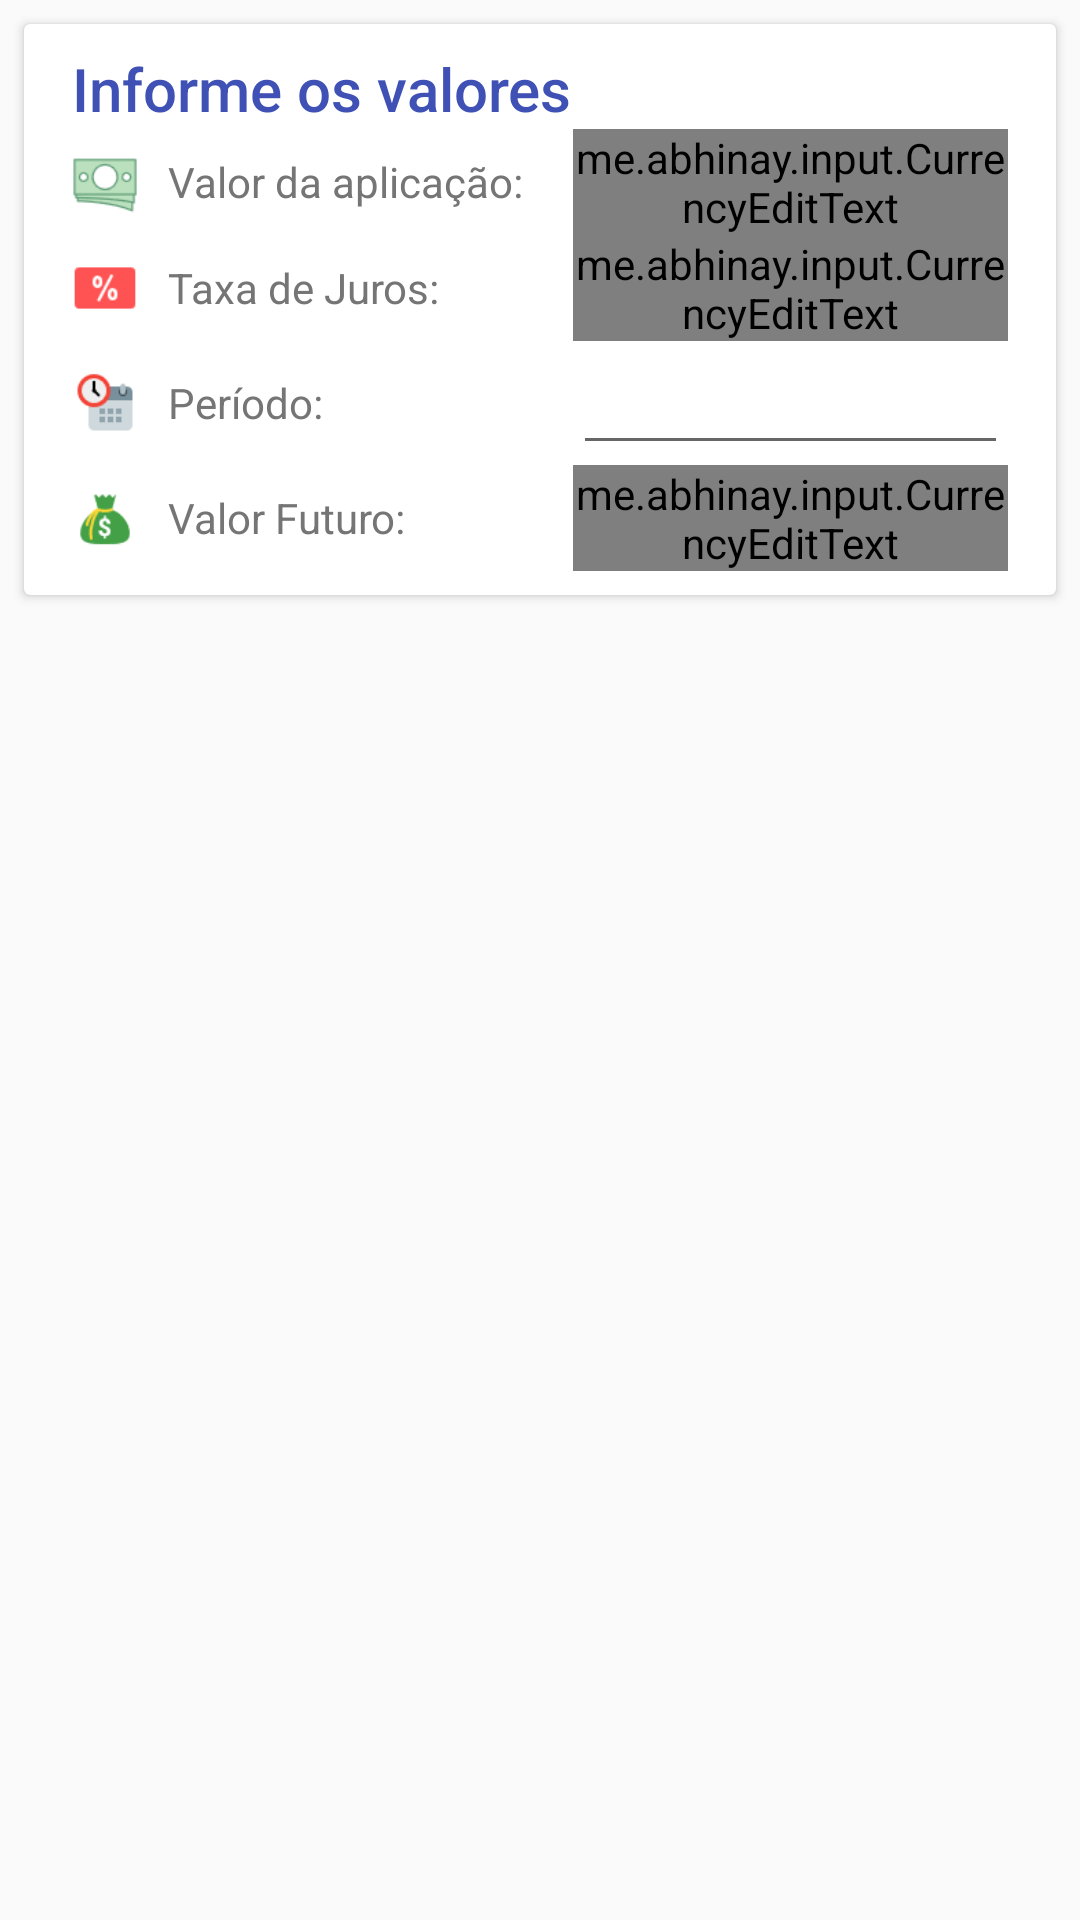

Where to tap for icons on this 1080 × 1920 app screen, as (x=x, y=y):
money: (x=105, y=185)
money bag: (x=105, y=519)
overtime: (x=105, y=402)
